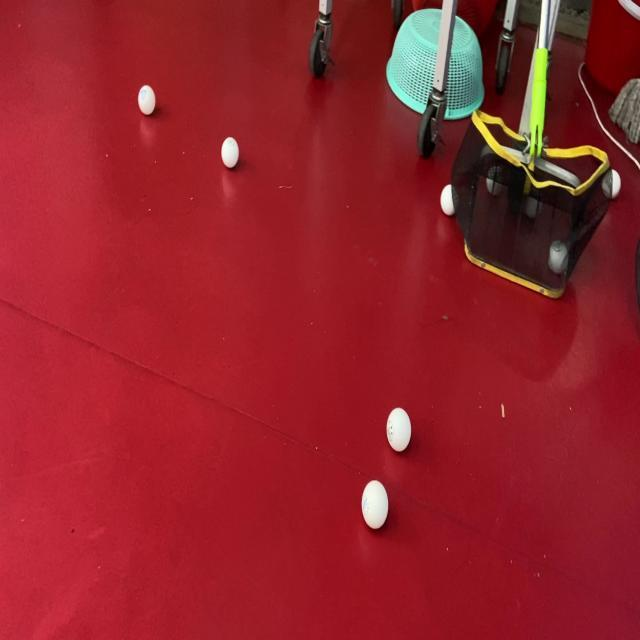ping-pong-ball: (360, 474, 390, 536), (385, 406, 415, 454), (221, 134, 241, 172), (136, 83, 158, 117), (438, 182, 457, 218)
